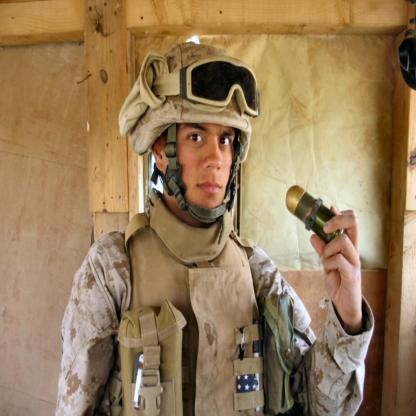Helmet: (130, 46, 254, 232)
